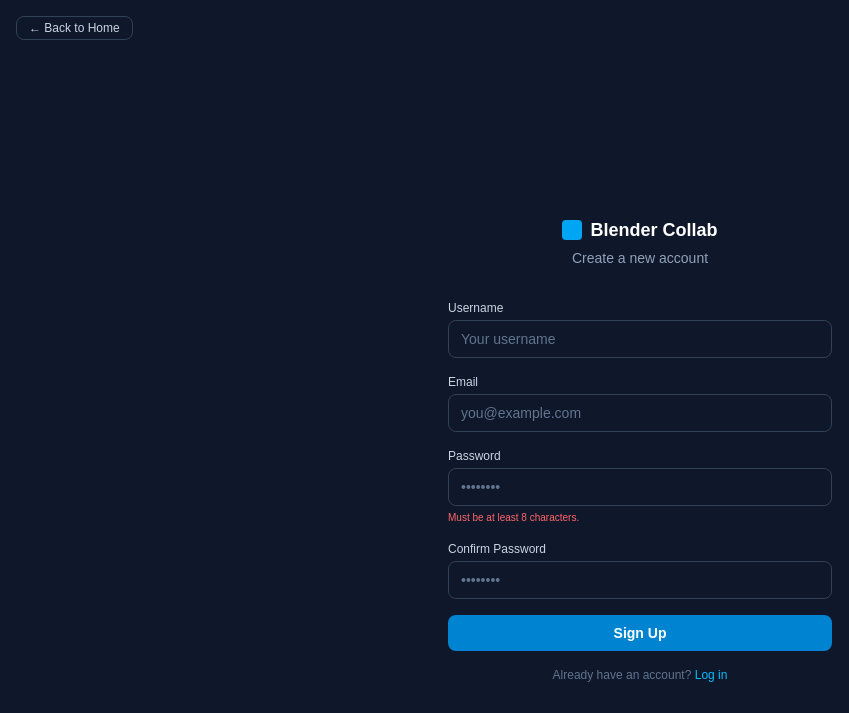
SignupPage › shows API error message on signup failure
Type "user" into the field with placeholder "Your username".
click(640, 338); type("user")  # box [448, 320, 832, 358]
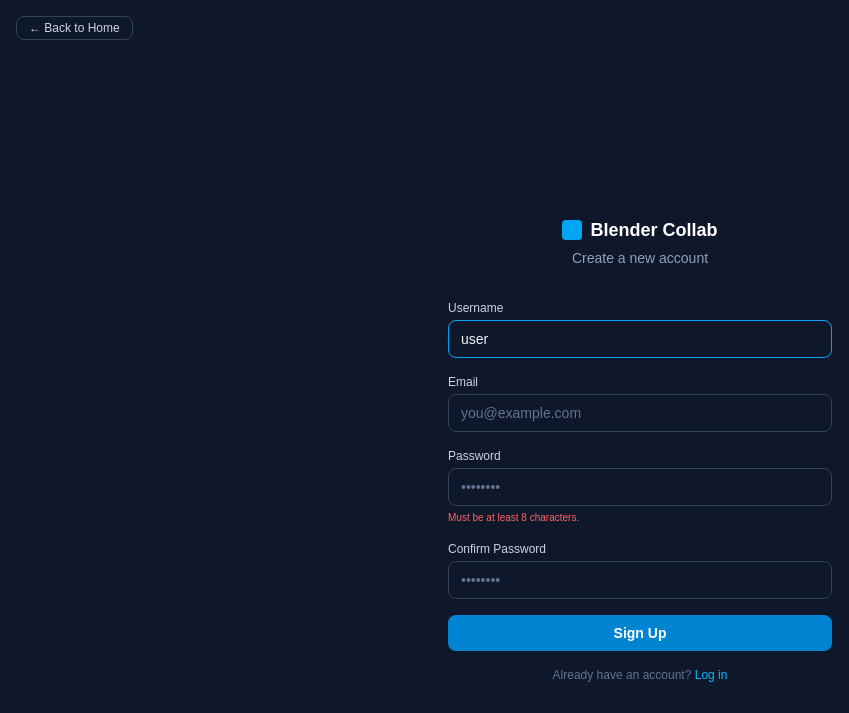
Type "dup@test.com" into the field with placeholder "you@example.com".
click(640, 412); type("dup@test.com")  # box [448, 394, 832, 432]
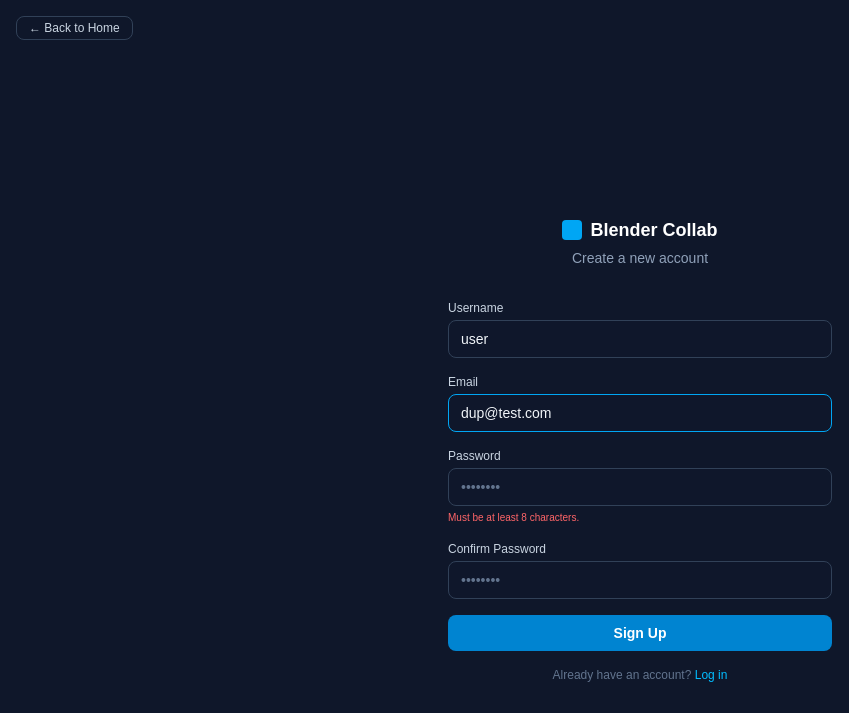
Type "password123" into the 1st password field with placeholder "••••••••".
click(640, 486); type("password123")  # box [448, 468, 832, 506]
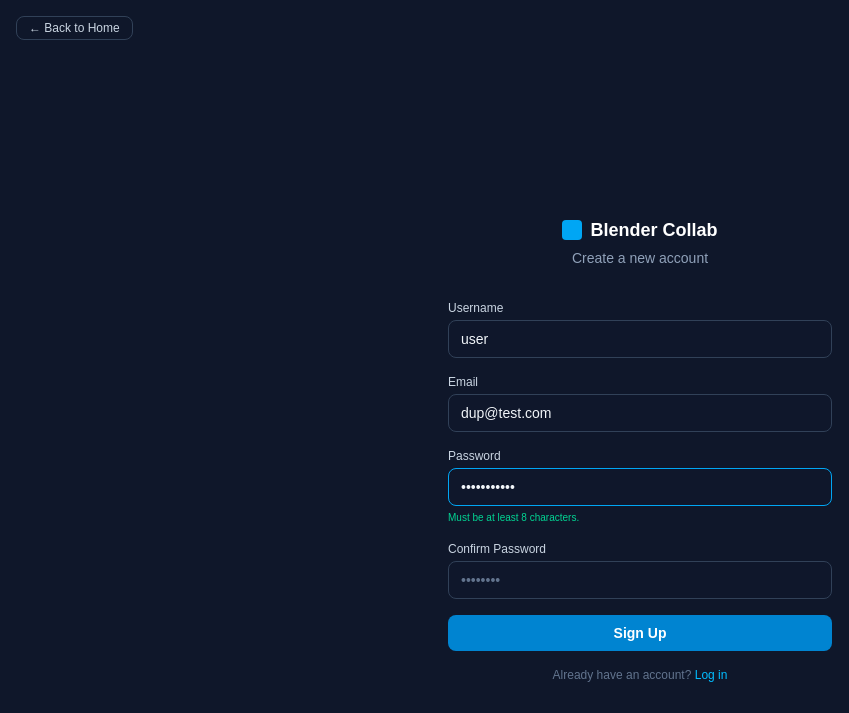
Type "password123" into the password field with placeholder "••••••••".
click(640, 580); type("password123")  # box [448, 560, 832, 598]
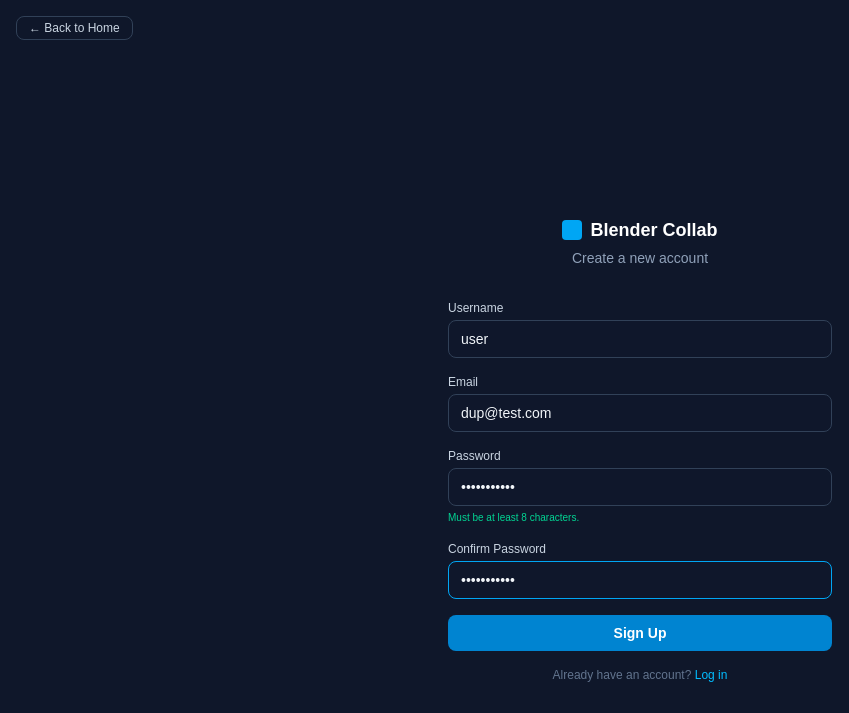
Click the button "Sign Up".
click(640, 632)  # box [448, 614, 832, 650]
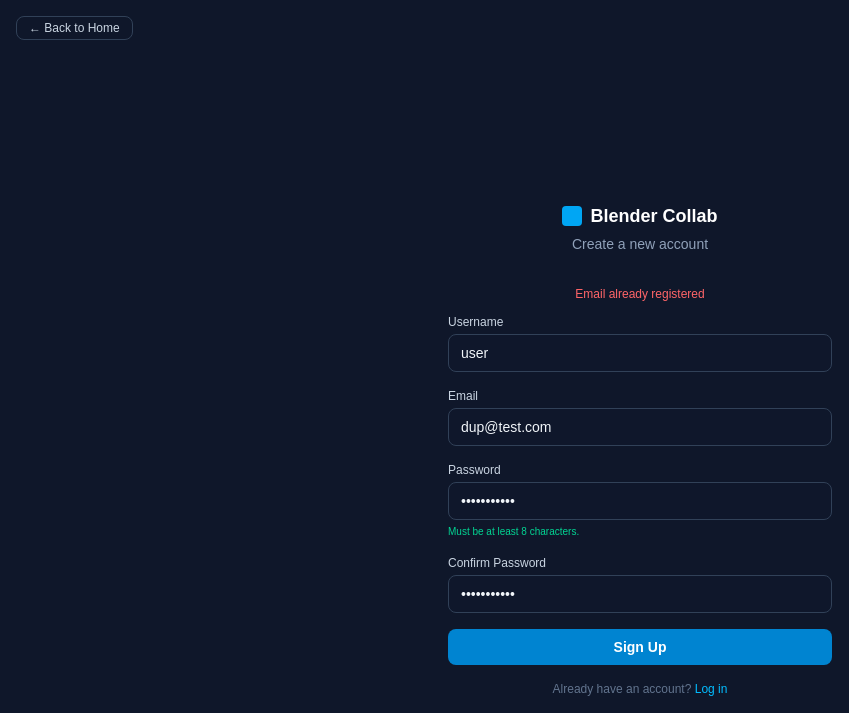
Check: the text "Email already registered" is shown, box [575, 286, 705, 300]
